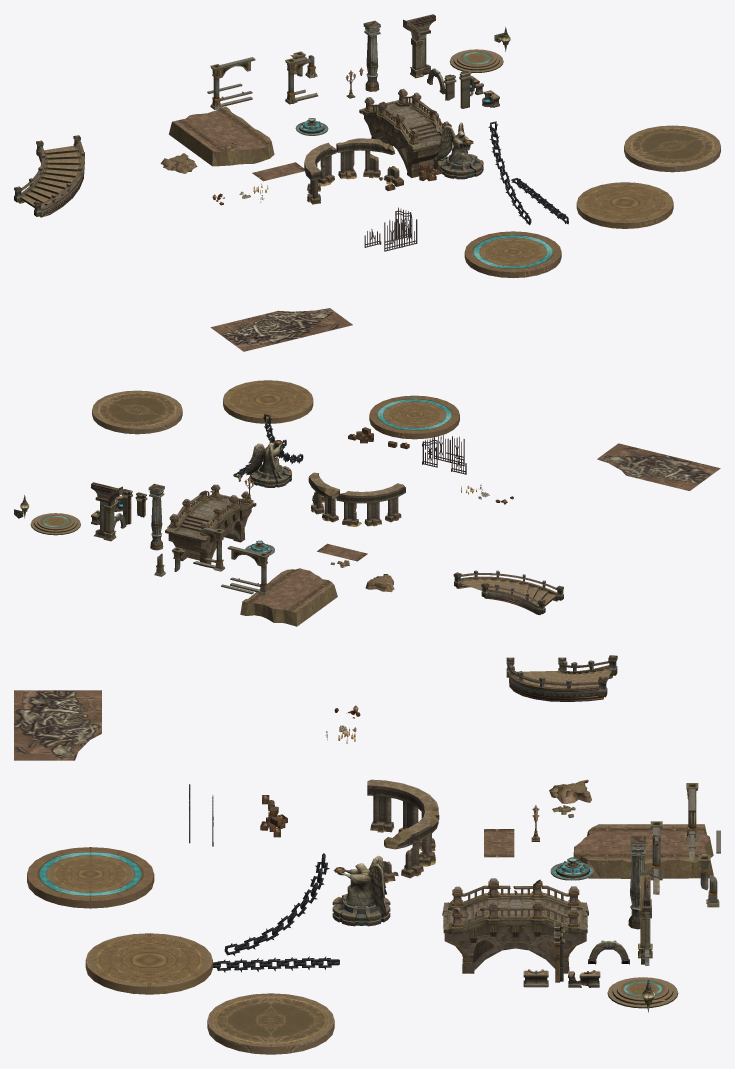
Rendered from f_1112_floor_wujian.FBX.
3 views of the same model, one above another, from view 1: azimuth 30°, elevation 25°; view 2: azimuth 150°, elevation 25°; view 3: azimuth 270°, elevation 25° (orthographic). The views are drawn at different scales.
Parts seen in each view (by area): view 1: f_1112_bridge01, f_1103_stage01, Cylinder005, Cylinder004, Cylinder003, Plane001, w_1009_railing68, Object003, d_2102_pillars_004, w_1009_railing66, d_2102_statue_01, w_1009_railing56 (+6 smaller); view 2: f_1112_bridge01, f_1103_stage01, Cylinder003, Cylinder004, Cylinder005, Plane001, w_1009_railing68, d_2102_pillars_004, w_1009_railing66, Object003, w_1009_railing56, d_2102_statue_01 (+7 smaller); view 3: f_1112_bridge01, Cylinder004, Cylinder005, Cylinder003, Plane001, f_1103_stage01, w_1009_railing68, d_2102_pillars_004, Object003, d_2102_statue_01, w_1009_railing56, f_1105_floor09 (+8 smaller).
Boxes of the visible parts, x1=… form: f_1112_bridge01: x1=359, y1=88, x2=452, y2=177; f_1103_stage01: x1=169, y1=106, x2=274, y2=166; Cylinder005: x1=576, y1=182, x2=673, y2=228; Cylinder004: x1=464, y1=231, x2=561, y2=277; Cylinder003: x1=624, y1=125, x2=720, y2=172; Plane001: x1=210, y1=308, x2=352, y2=351; w_1009_railing68: x1=14, y1=135, x2=84, y2=217; Object003: x1=336, y1=138, x2=401, y2=184; d_2102_pillars_004: x1=304, y1=142, x2=336, y2=204; w_1009_railing66: x1=403, y1=14, x2=435, y2=78; d_2102_statue_01: x1=434, y1=122, x2=473, y2=164; w_1009_railing56: x1=449, y1=49, x2=503, y2=72; f_1112_bridge01: x1=165, y1=484, x2=256, y2=566; f_1103_stage01: x1=240, y1=568, x2=337, y2=626; Cylinder003: x1=92, y1=390, x2=182, y2=434; Cylinder004: x1=369, y1=395, x2=459, y2=439; Cylinder005: x1=223, y1=380, x2=313, y2=423; Plane001: x1=597, y1=443, x2=720, y2=490; w_1009_railing68: x1=453, y1=570, x2=563, y2=614; d_2102_pillars_004: x1=336, y1=483, x2=405, y2=526; w_1009_railing66: x1=91, y1=482, x2=122, y2=541; Object003: x1=308, y1=472, x2=339, y2=522; w_1009_railing56: x1=30, y1=513, x2=80, y2=535; d_2102_statue_01: x1=246, y1=440, x2=282, y2=482; f_1112_bridge01: x1=442, y1=878, x2=588, y2=973; Cylinder004: x1=27, y1=847, x2=154, y2=908; Cylinder005: x1=85, y1=933, x2=212, y2=994; Cylinder003: x1=207, y1=993, x2=334, y2=1054; Plane001: x1=14, y1=690, x2=101, y2=760; f_1103_stage01: x1=573, y1=824, x2=713, y2=878; w_1009_railing68: x1=506, y1=655, x2=617, y2=701; d_2102_pillars_004: x1=367, y1=779, x2=439, y2=851; Object003: x1=383, y1=810, x2=438, y2=883; d_2102_statue_01: x1=334, y1=855, x2=386, y2=915; w_1009_railing56: x1=607, y1=977, x2=678, y2=1008; f_1105_floor09: x1=224, y1=853, x2=329, y2=955.
Bounding box in the file's own units: 11297 × 1806 × 8950.
